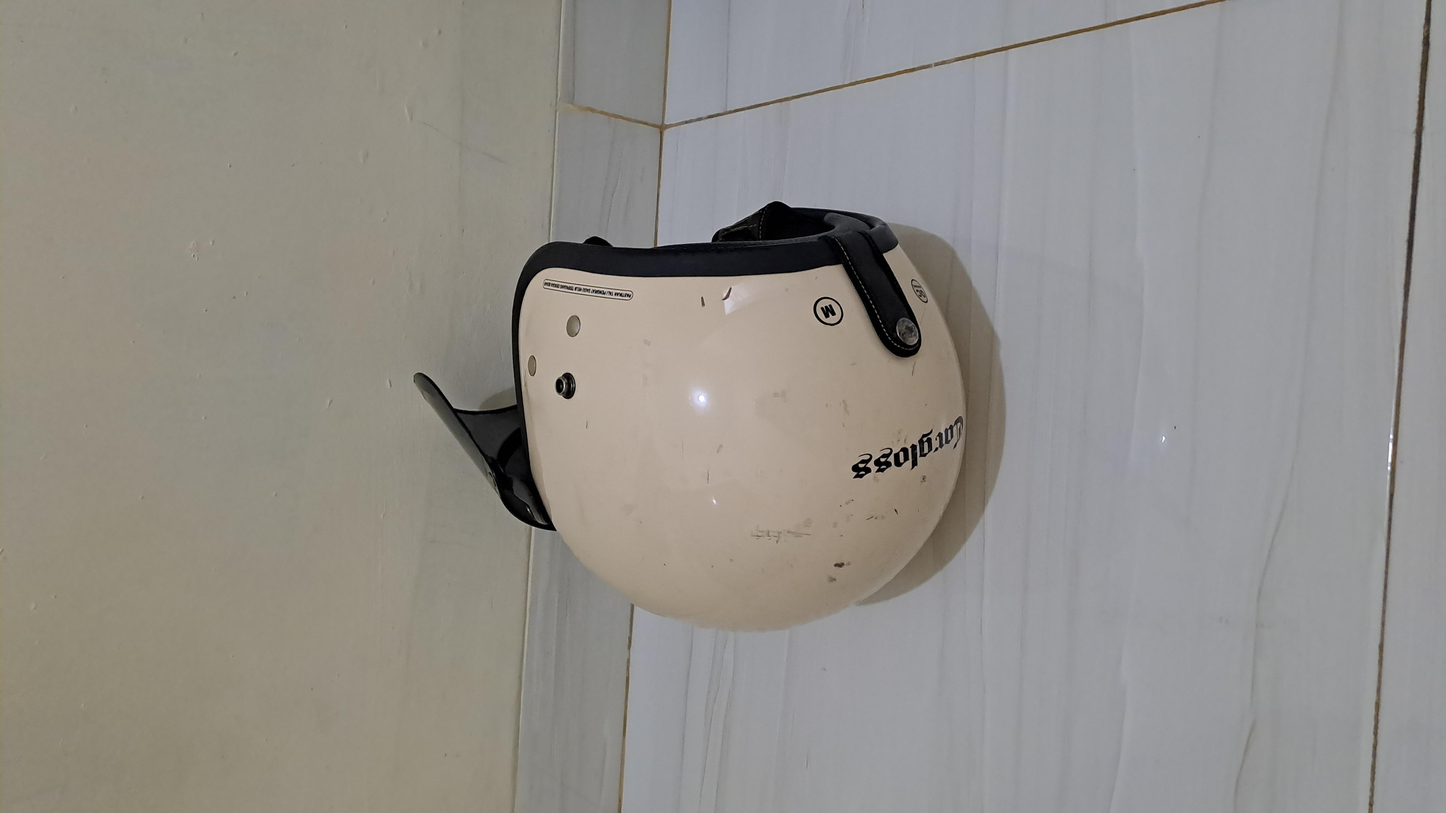helmet: (245, 212, 1115, 580)
